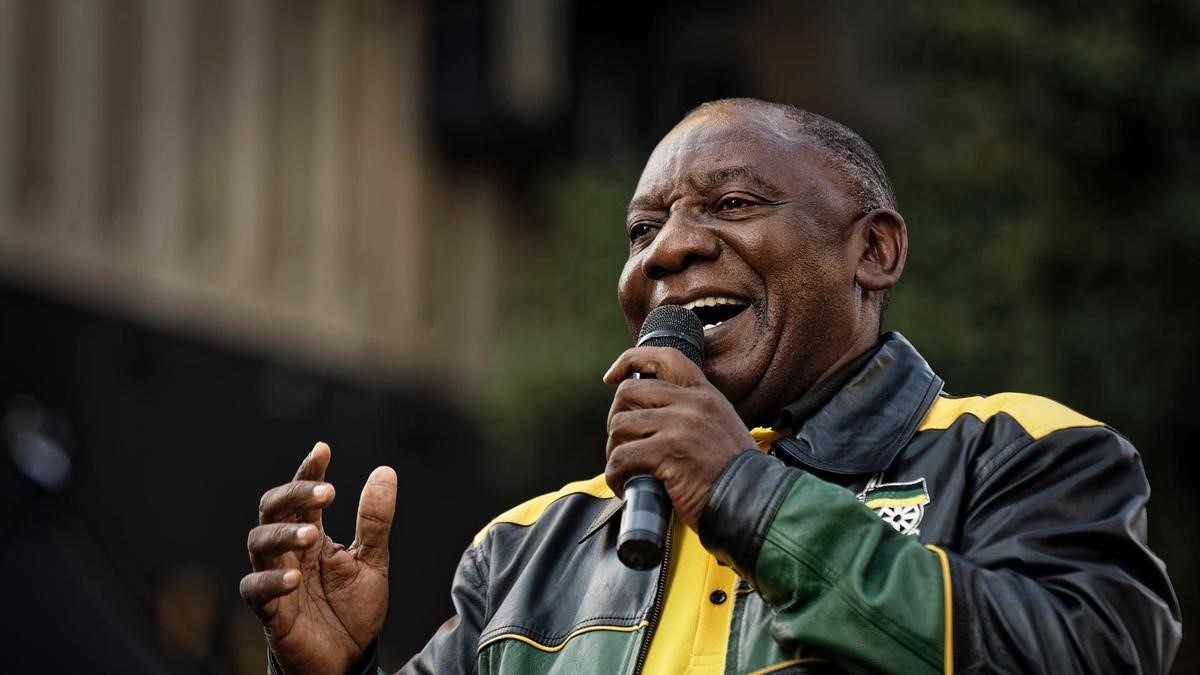face_no_mask: (616, 98, 910, 395)
